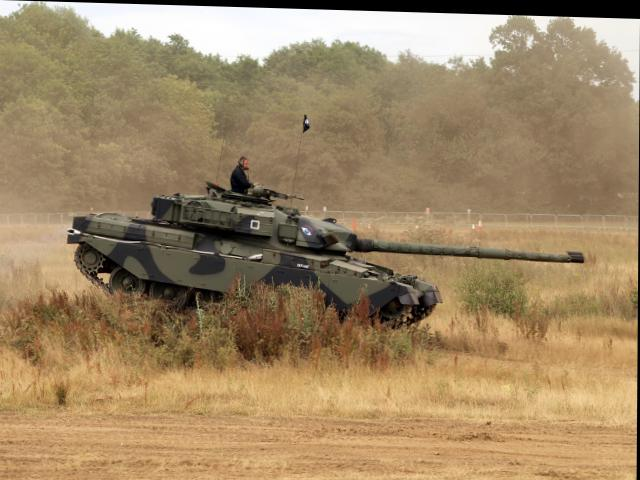other: (227, 149, 259, 187)
tank: (53, 138, 438, 360)
